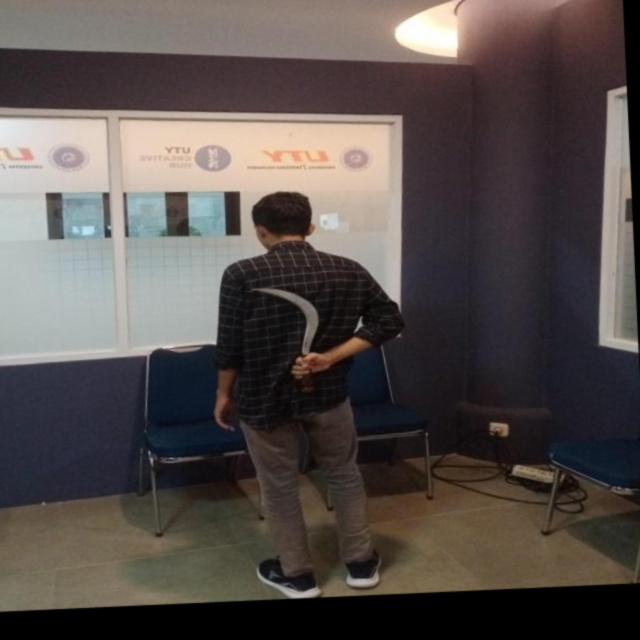Sharp-Object: (251, 279, 330, 381)
